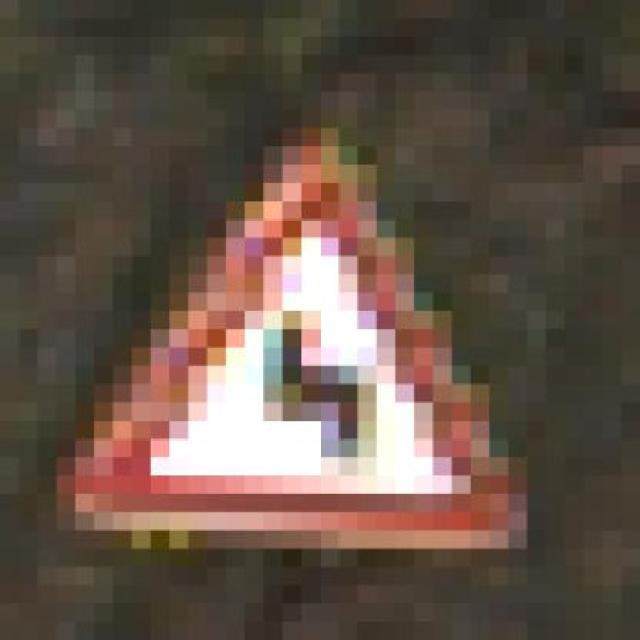Left Zig Zag Traffic: (38, 55, 565, 567)
